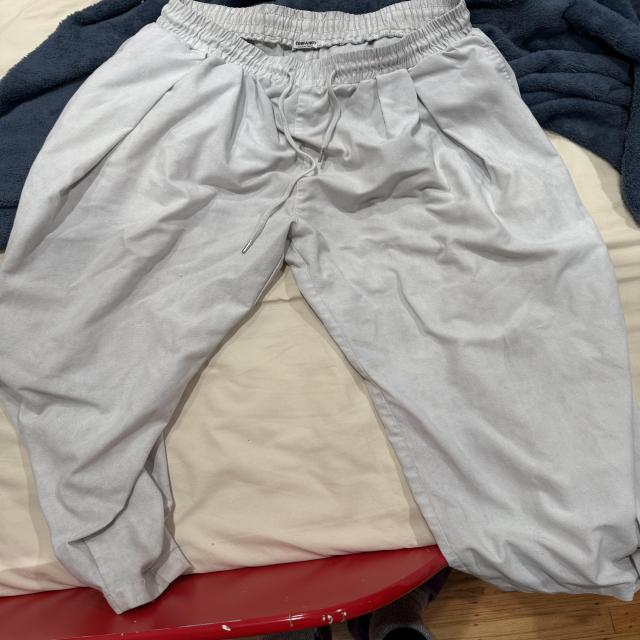back_tag: (284, 33, 330, 55)
